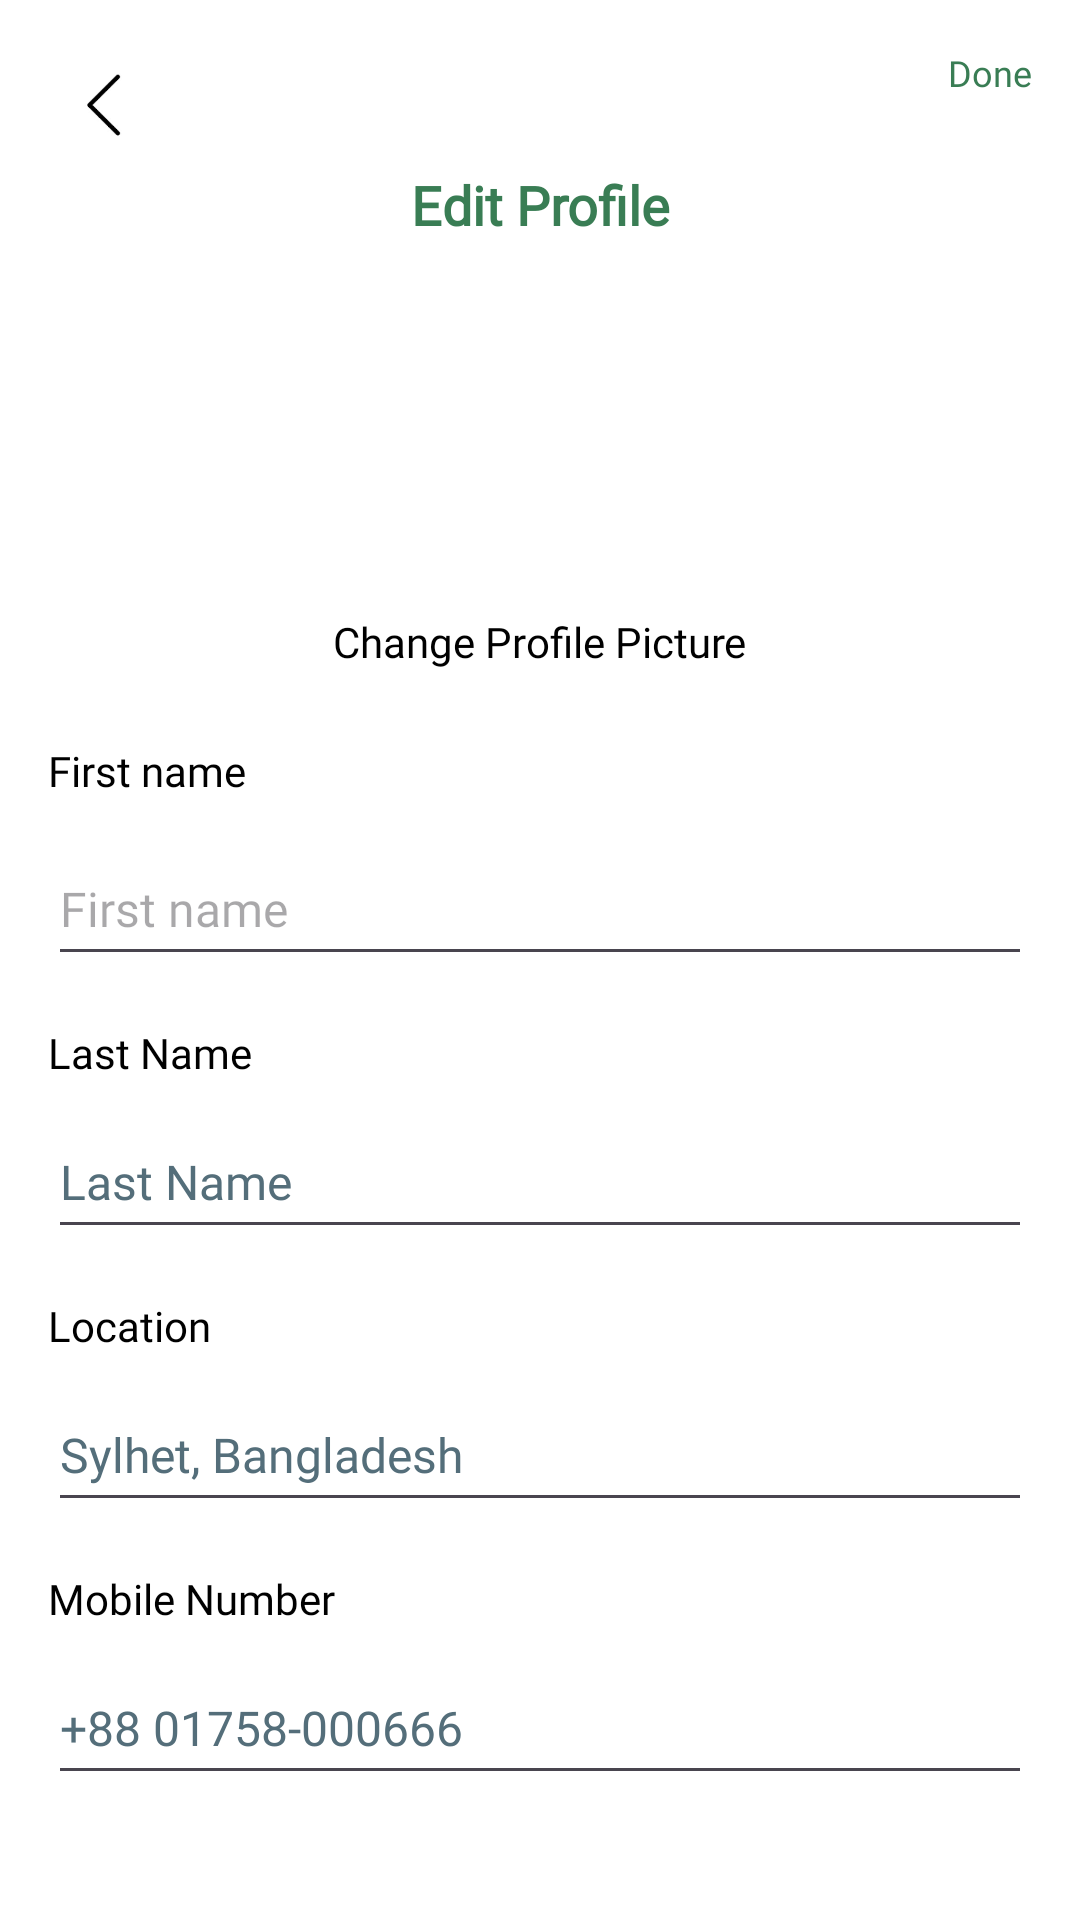

Icons on this 1080*1920 Android screen, each with the point to tap as (x,y):
Back: (103,105)
